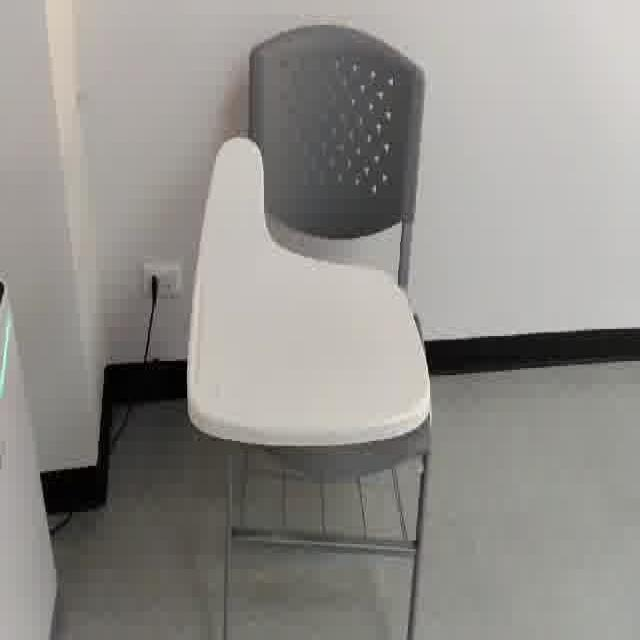chair: (176, 0, 448, 640)
